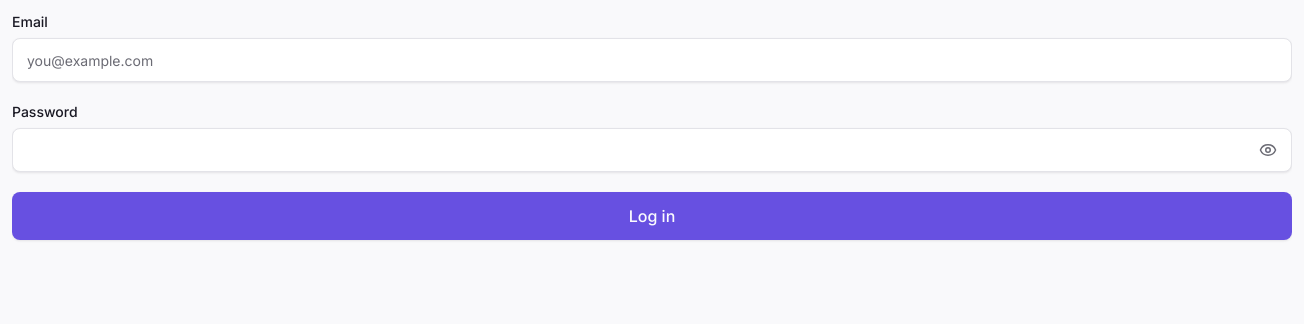
Test: LoginForm server errors › shows a form-level error for wrong credentials without treating it as an expired session
This screenshot has width=1304, height=324.
In the field labelled "Email": (652, 60) [12,38,1292,82], type "jane@example.com"
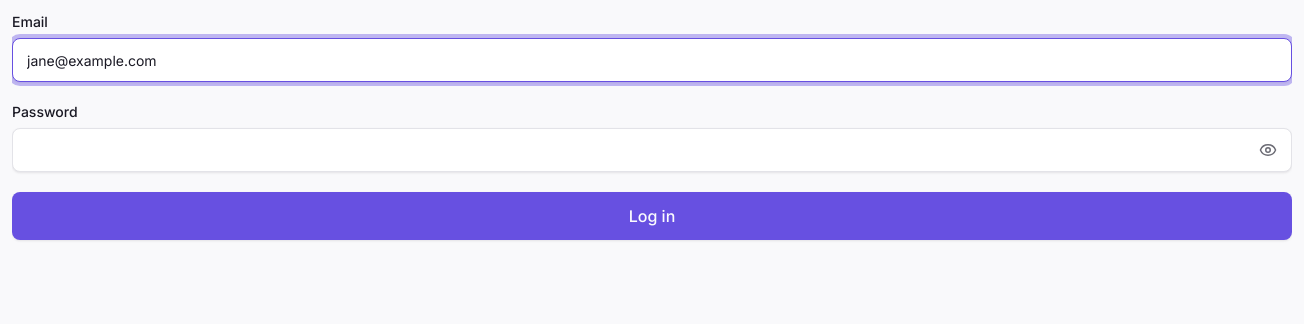
In the password field labelled "Password": (652, 150) [12,128,1292,172], type "wrong-password"
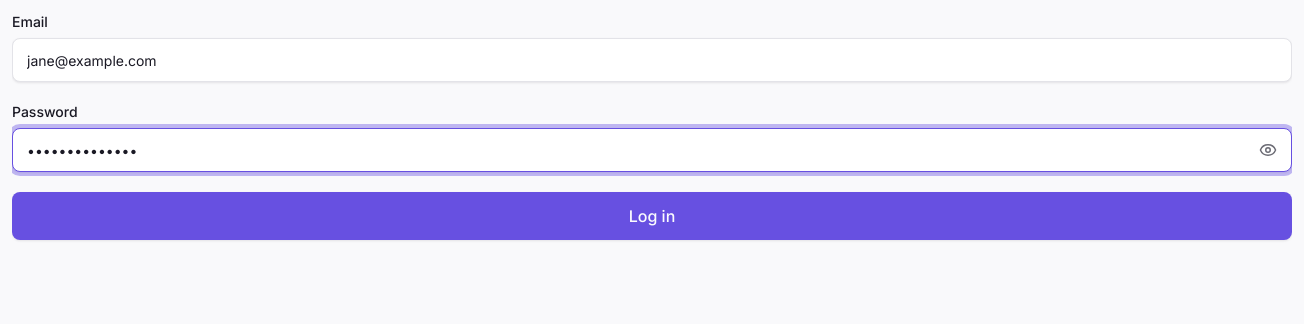
Click the button "Log in": (652, 216) [12,192,1292,240]
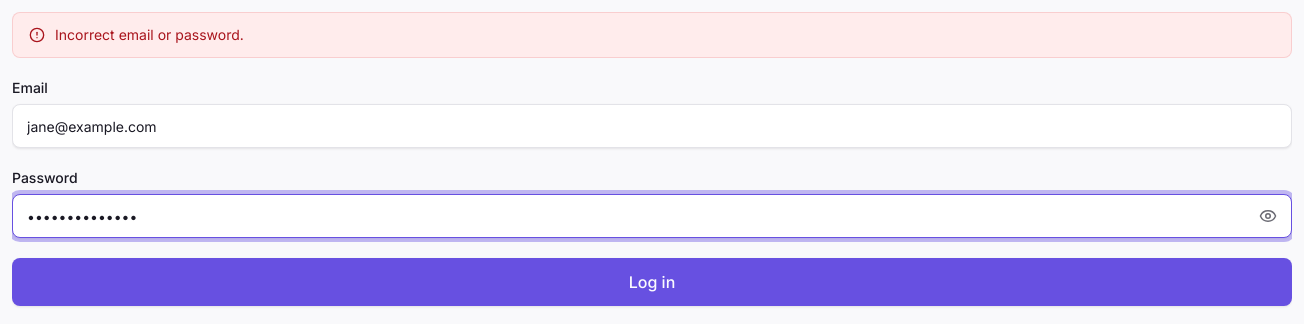
Check: the message reads "Incorrect email or password.", box [55,26,244,43]
